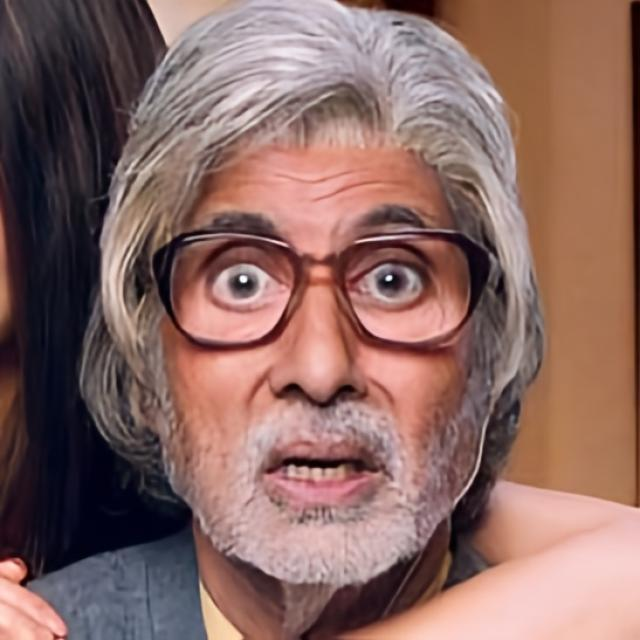fear: (153, 118, 497, 592)
